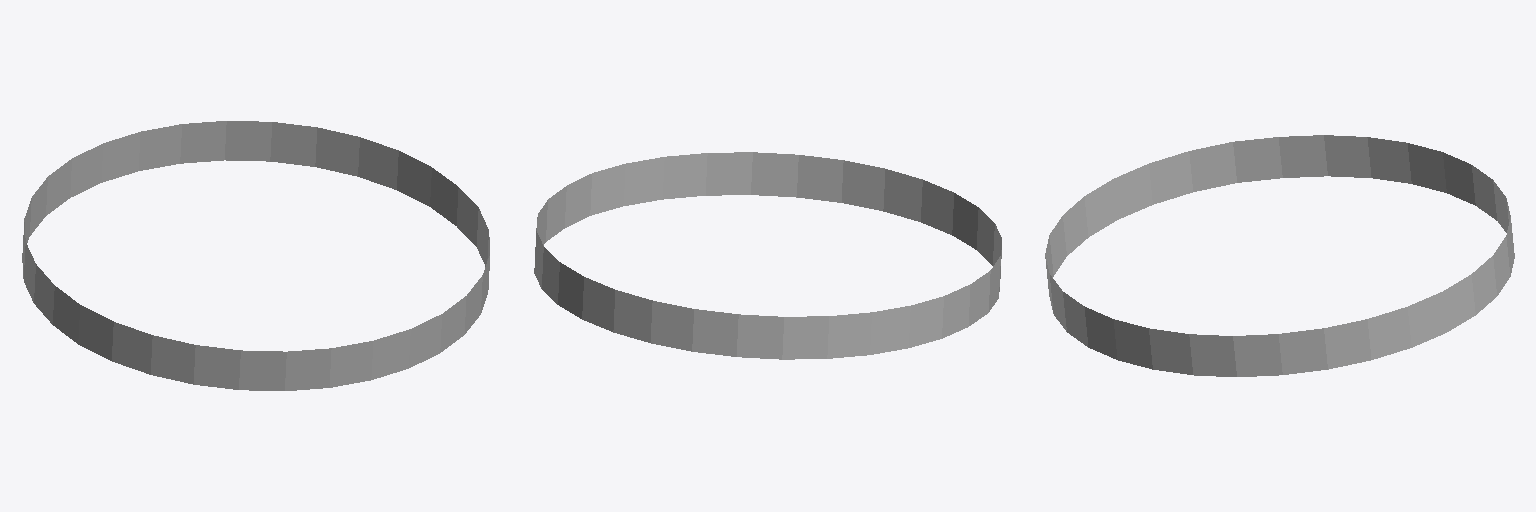
The model's file is loop_angled_more2.obj.
3 views of the same model, side by side, from view 1: azimuth 30°, elevation 25°; view 2: azimuth 150°, elevation 25°; view 3: azimuth 270°, elevation 25° (orthographic).
Bounding box in the file's own units: 1.54 × 0.2905 × 1.55.